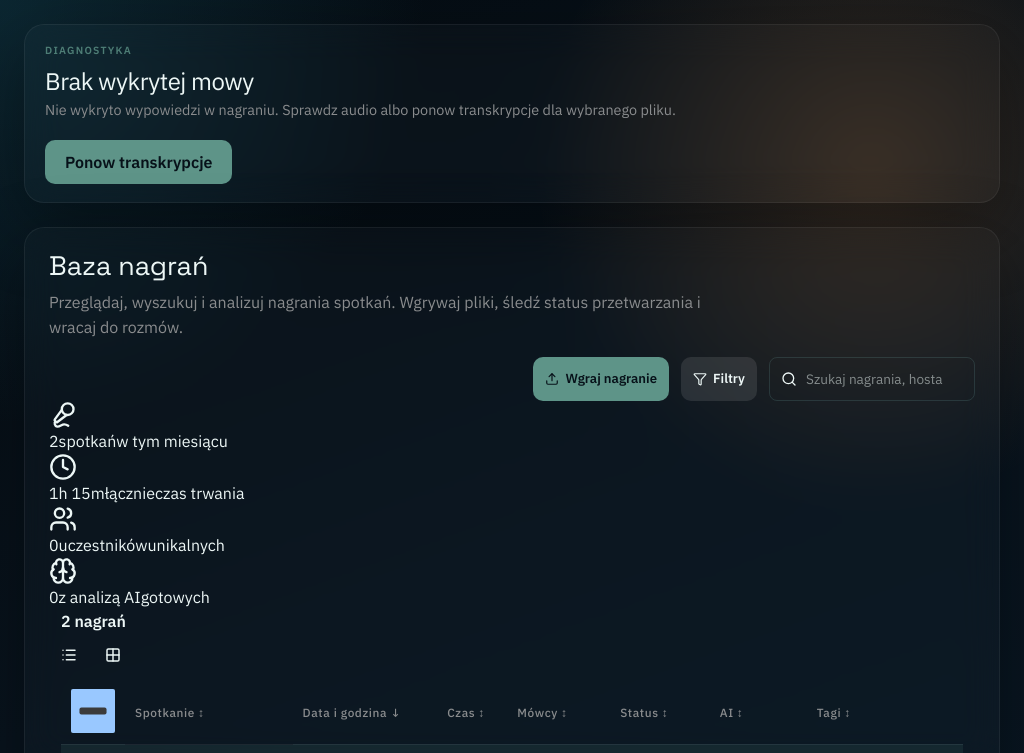
Scenario: RecordingsTab › Regression: retry action shows error state for empty transcript
The width and height of the screenshot is (1024, 753).
Click the button "Ponow transkrypcje".
click(139, 162)  # box [45,140,232,184]
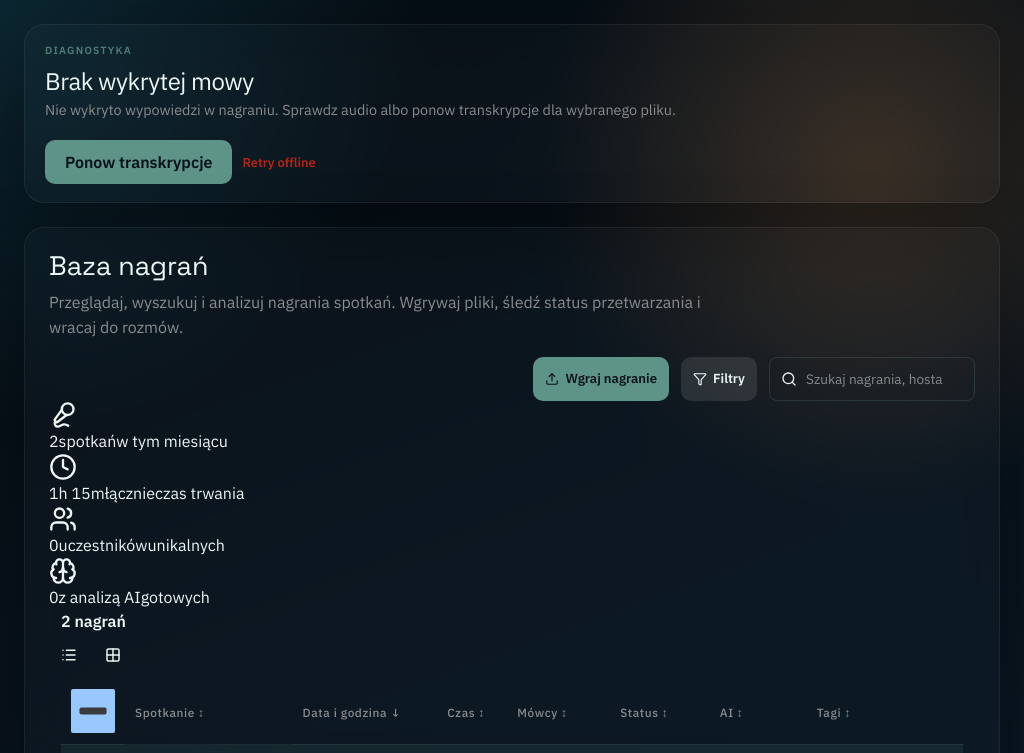
Expected: the message reads "Retry offline", [242,154,316,171]
